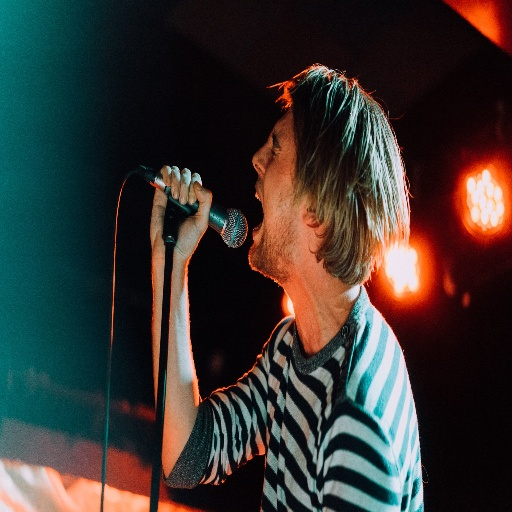hand: (145, 168, 232, 252)
